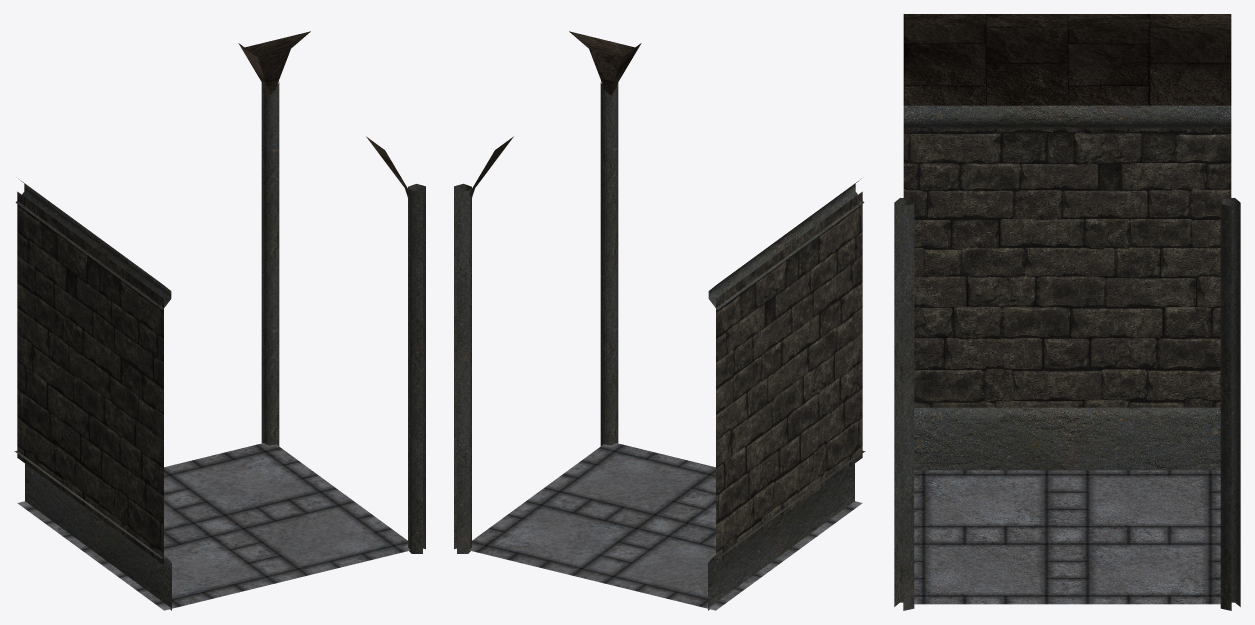
Rendered from TJunction.fbx.
The picture shows the model from 3 angles, left to right: view 1: azimuth 30°, elevation 25°; view 2: azimuth 150°, elevation 25°; view 3: azimuth 270°, elevation 25°; orthographic projection. The views are drawn at different scales.
Visible parts, largest first — view 1: Plane_003, Plane_009, Cylinder_002, Cylinder, Plane_004, Plane_008, Plane_001; view 2: Plane_003, Plane_009, Cylinder, Cylinder_002, Plane_004, Plane_008, Plane_001; view 3: Plane_003, Plane_009, Plane_001, Plane_004, Cylinder, Cylinder_002, Plane_008.
Boxes of the visible parts, x1,y1,x2,y2 form: Plane_003: (17,191,163,564); Plane_009: (17,443,410,610); Cylinder_002: (261,81,279,445); Cylinder: (408,184,425,553); Plane_004: (14,451,171,610); Plane_008: (15,178,171,309); Plane_001: (238,31,410,197); Plane_003: (716,191,862,564); Plane_009: (469,443,862,610); Cylinder: (600,81,618,445); Cylinder_002: (454,183,471,553); Plane_004: (708,451,865,610); Plane_008: (708,178,864,309); Plane_001: (469,31,641,197); Plane_003: (903,128,1231,407); Plane_009: (914,470,1220,604); Plane_001: (903,14,1231,105); Plane_004: (914,407,1220,470); Cylinder: (894,198,914,610); Cylinder_002: (1220,198,1240,610); Plane_008: (903,105,1231,128).
Size of the model in its own units: 2.08 by 3.46 by 2.11.
